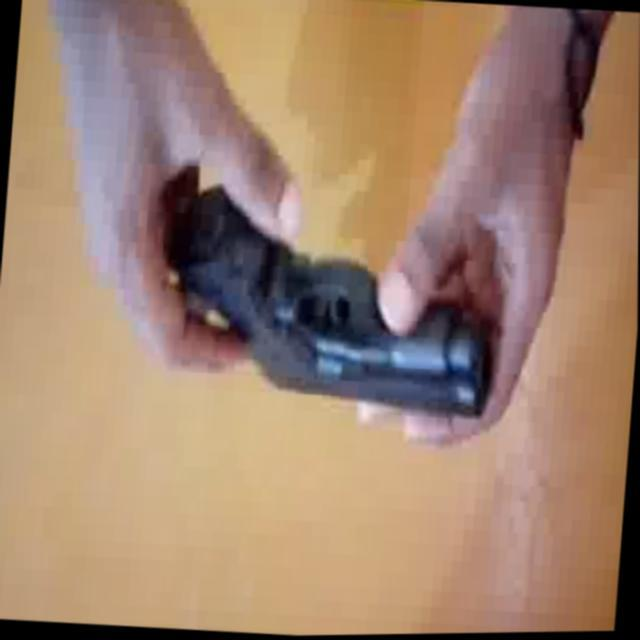weapon: (146, 158, 506, 422)
